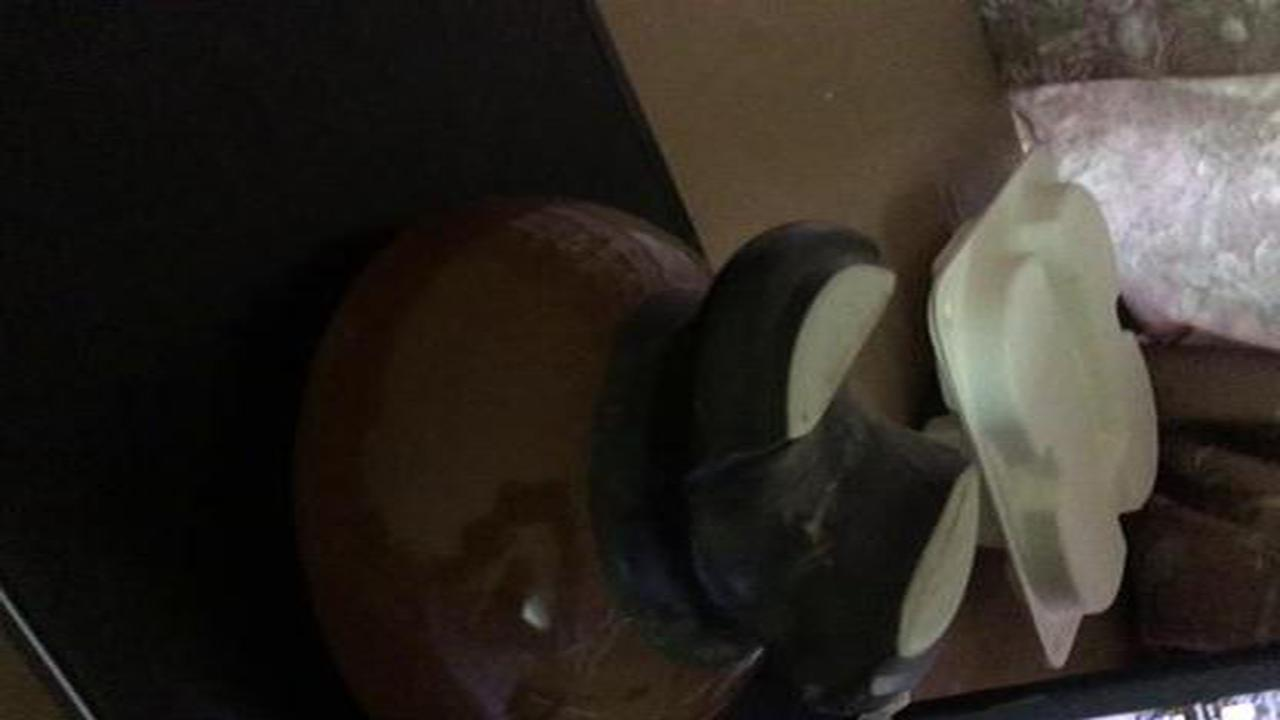insulator_pin: (265, 181, 1010, 720)
